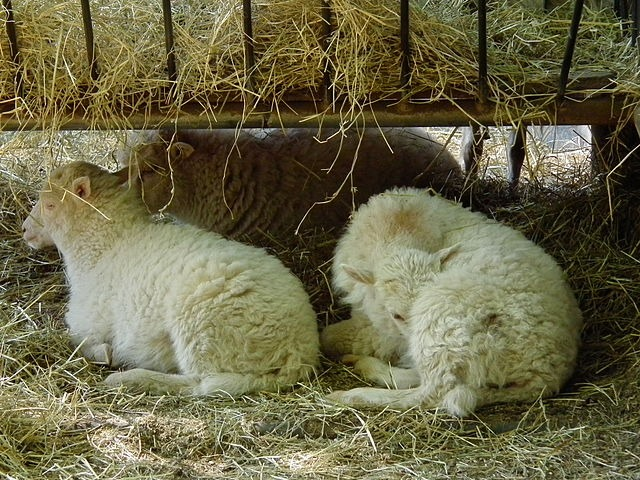resting: (22, 159, 318, 389), (327, 185, 587, 421)
